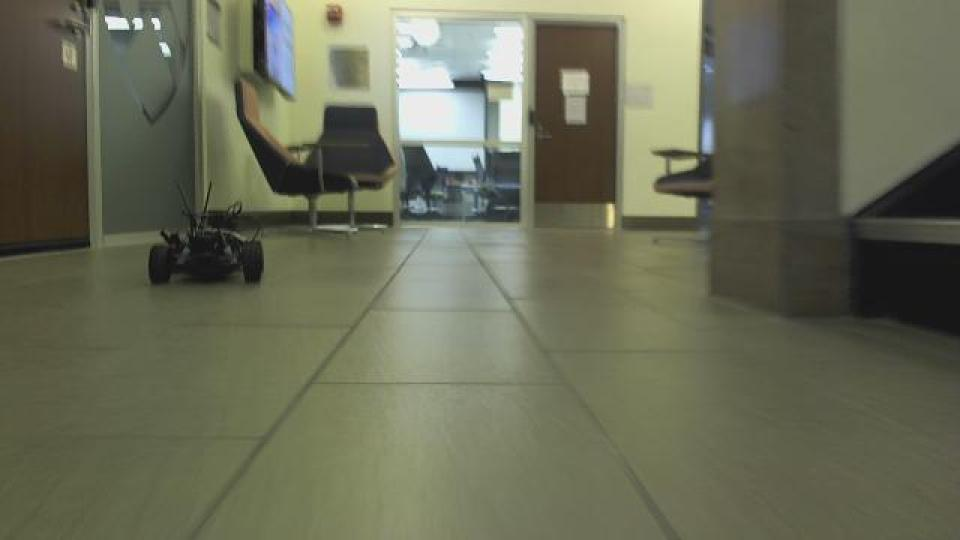car: (143, 178, 267, 288)
